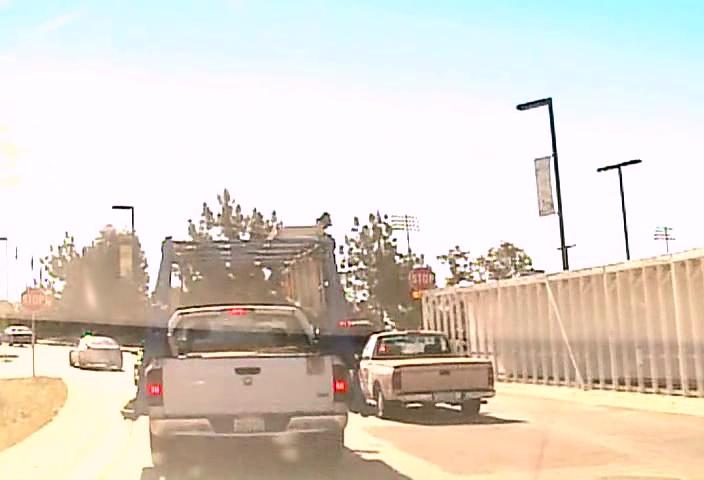stop: (408, 264, 435, 292)
